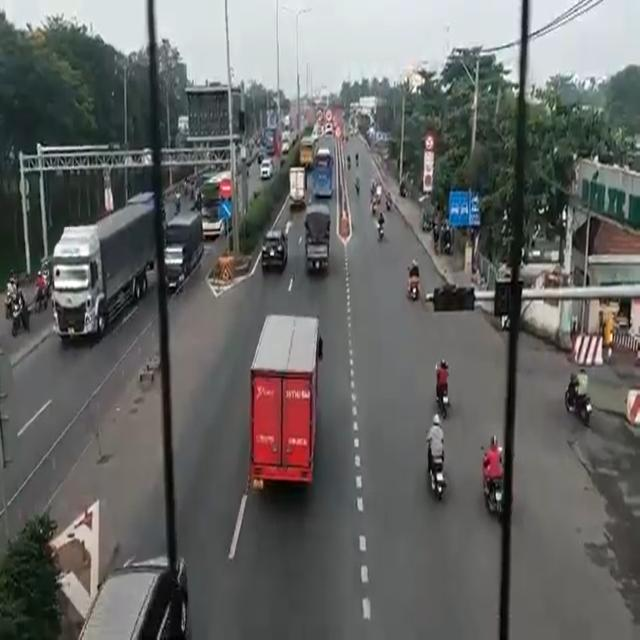bus: (205, 172, 227, 230), (314, 153, 334, 199)
car: (87, 556, 182, 636), (262, 226, 282, 273)
motor: (427, 413, 447, 501), (482, 437, 506, 510), (436, 358, 452, 415), (407, 253, 422, 304)
truck: (55, 206, 156, 338), (250, 311, 318, 485), (162, 210, 205, 283), (303, 206, 328, 272), (286, 161, 305, 212)
